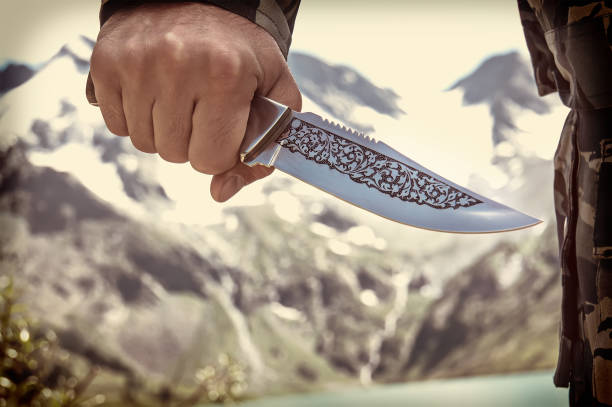knife: (238, 94, 546, 236)
